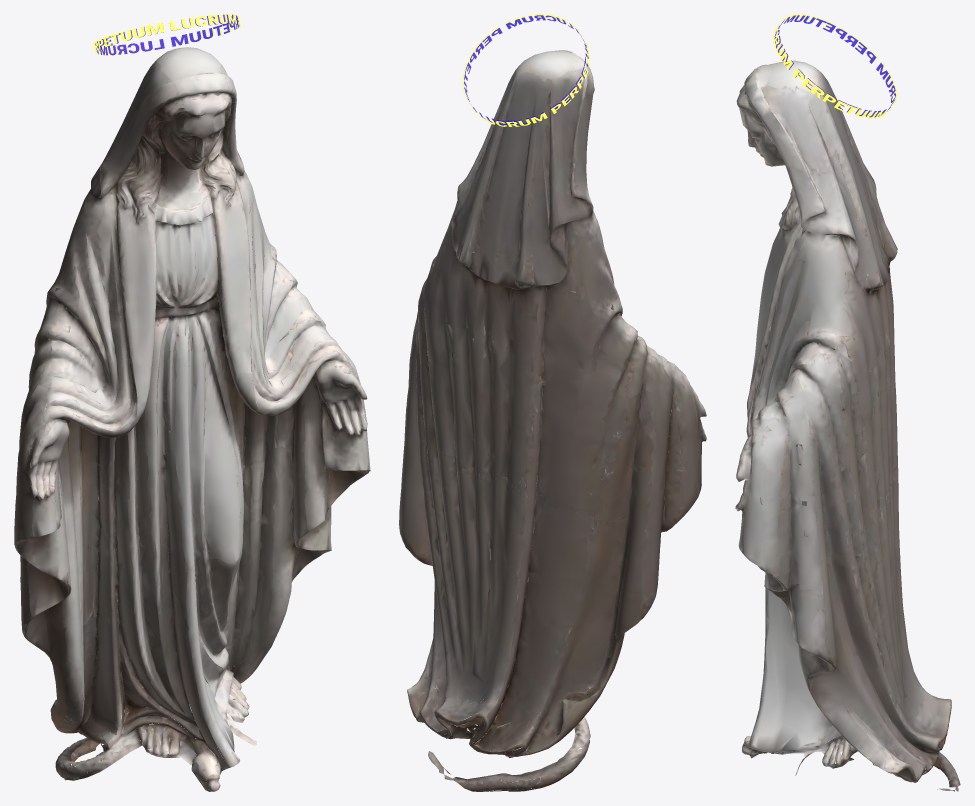
The model's file is MobileMary.glb.
3 renders of one model, left to right at view 1: azimuth 30°, elevation 25°; view 2: azimuth 150°, elevation 25°; view 3: azimuth 270°, elevation 25°, orthographic. The views are drawn at different scales.
Parts seen in each view (by area): view 1: statue, HaloText1, HaloText2; view 2: statue, HaloText1, HaloText2; view 3: statue, HaloText1, HaloText2.
Boxes of the visible parts, box(x1,y1,x2,y2) form: statue: box(14, 47, 370, 791); HaloText1: box(93, 14, 240, 55); HaloText2: box(95, 14, 239, 55); statue: box(399, 50, 706, 791); HaloText1: box(462, 14, 589, 126); HaloText2: box(464, 15, 588, 125); statue: box(735, 60, 960, 791); HaloText1: box(773, 14, 897, 118); HaloText2: box(774, 15, 895, 117).
Bounding box in the file's own units: 3.54 × 8.09 × 2.17.
6 materials, 2 textured.
